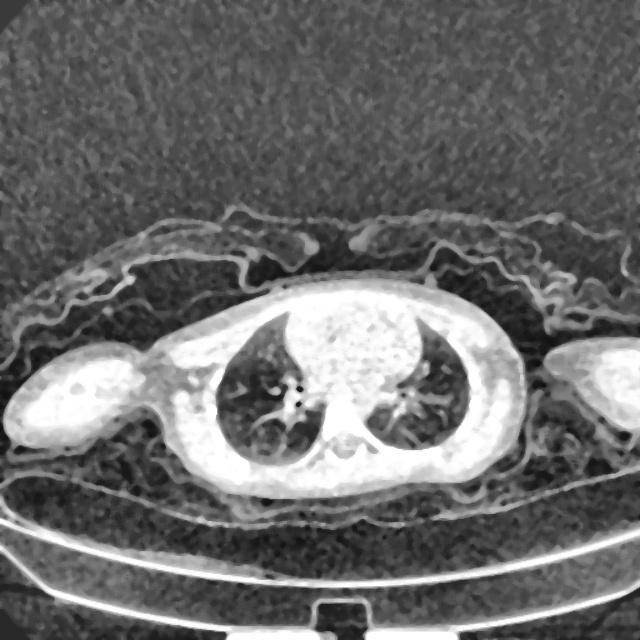covid: (3, 270, 529, 503)
